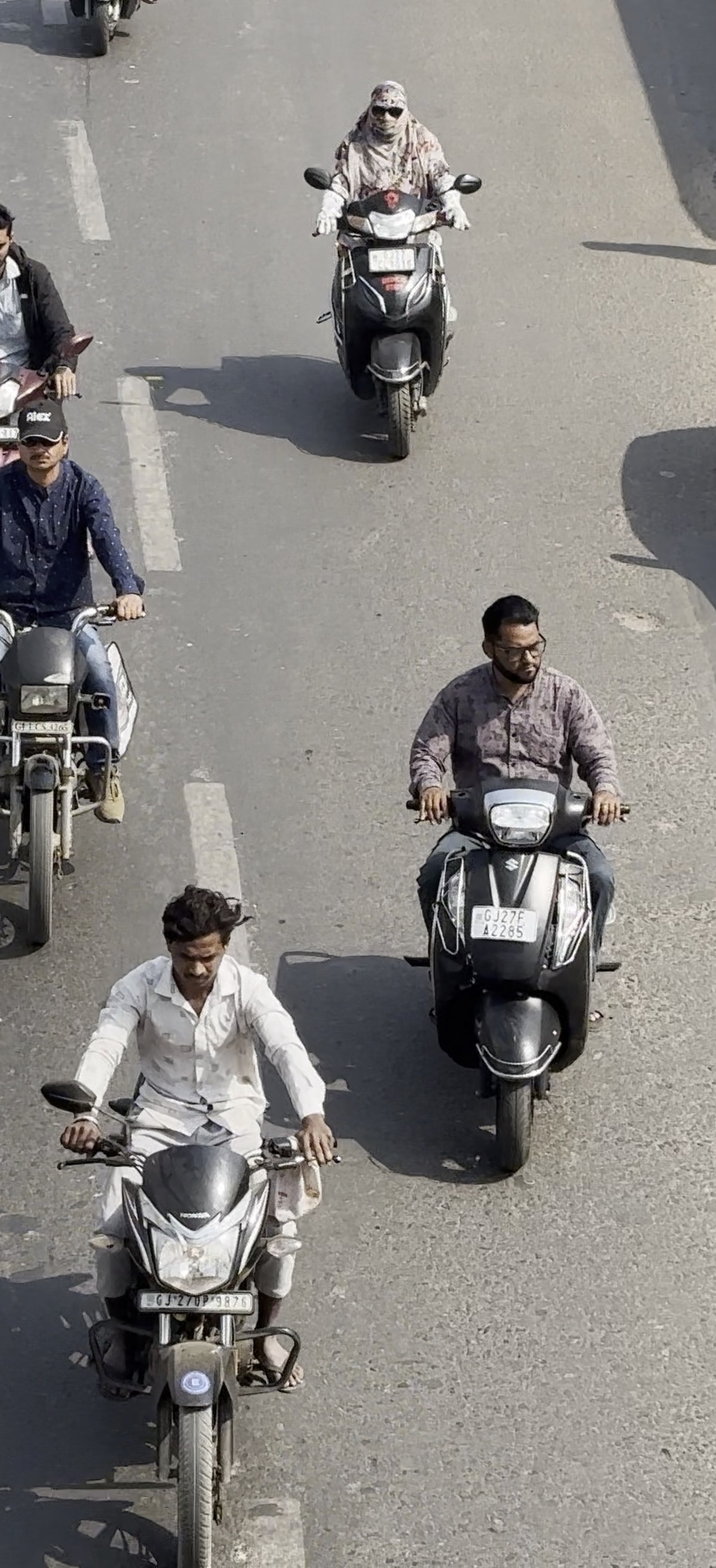BikeWithRider: (31, 874, 353, 1563), (391, 580, 638, 1183), (0, 387, 156, 961), (294, 64, 490, 470)
NoHelmet: (149, 878, 250, 1002), (468, 587, 562, 692), (4, 391, 81, 487), (357, 73, 419, 144)
